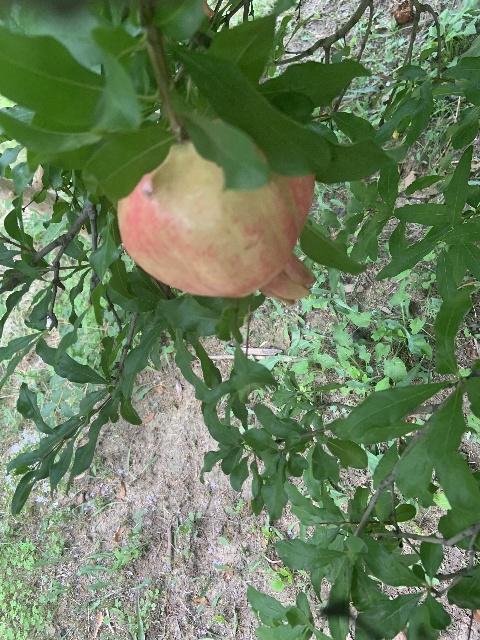ripe: (118, 135, 318, 303)
